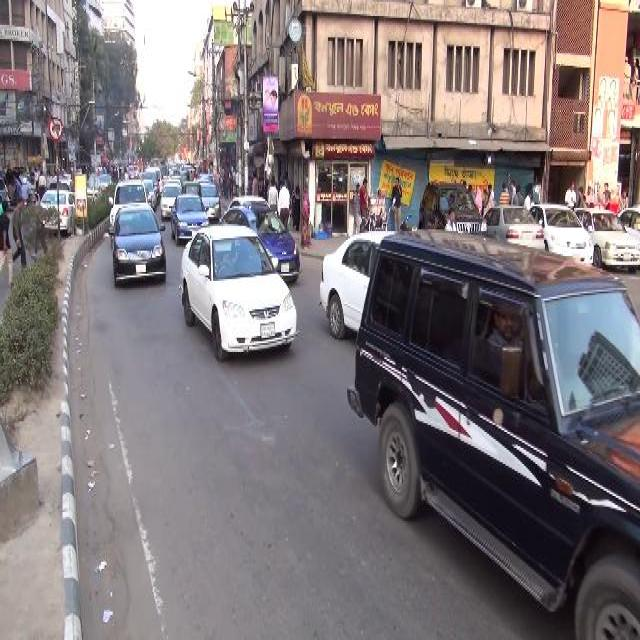car: (179, 222, 303, 366), (222, 202, 304, 285), (316, 225, 364, 340), (109, 203, 169, 288), (483, 200, 545, 252), (542, 196, 594, 258), (594, 199, 640, 267), (37, 185, 75, 242), (170, 196, 210, 246), (160, 181, 180, 217), (200, 180, 220, 215)
motorbike: (359, 206, 375, 235), (374, 205, 394, 225)
suv: (347, 227, 637, 633), (416, 177, 488, 235)
three wheelers -CNG-: (182, 178, 204, 199)
